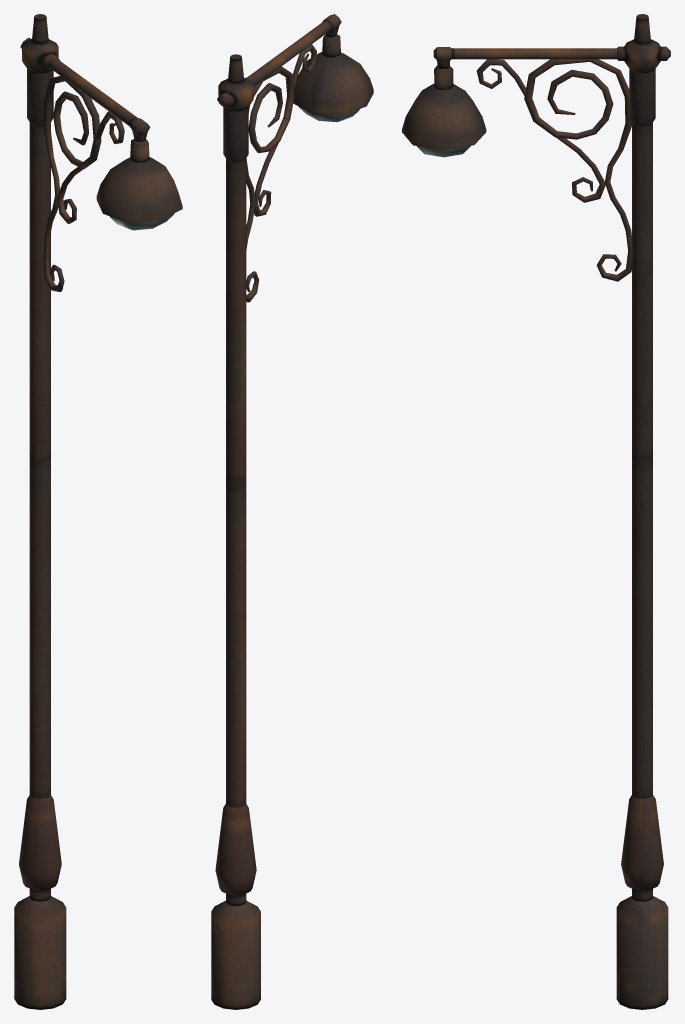
The model's file is lamppost.fbx.
3 views of the same model, side by side, from view 1: azimuth 30°, elevation 25°; view 2: azimuth 150°, elevation 25°; view 3: azimuth 270°, elevation 25° (orthographic). The views are drawn at different scales.
Visible parts, largest first — view 1: steamsquad_lamppost; view 2: steamsquad_lamppost; view 3: steamsquad_lamppost.
Boxes of the visible parts, x1=… form: steamsquad_lamppost: x1=14, y1=14, x2=182, y2=1009; steamsquad_lamppost: x1=211, y1=14, x2=373, y2=1009; steamsquad_lamppost: x1=402, y1=14, x2=670, y2=1009.
Bounding box in the file's own units: 0.1634 × 2.06 × 0.5105.
